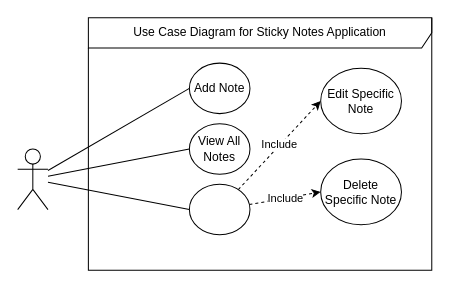
Image size: 449x288. Some labels were removed from this diagram. Here are the shapes that lost their labels. From the top down, the box of each, then its label:
(17, 148, 48, 210): User
(188, 183, 250, 235): View Specific Note
